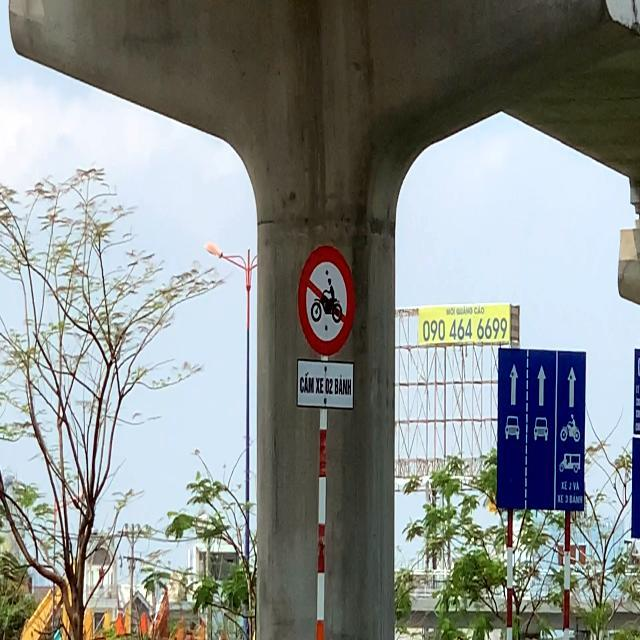P-104: (300, 246, 356, 356)
